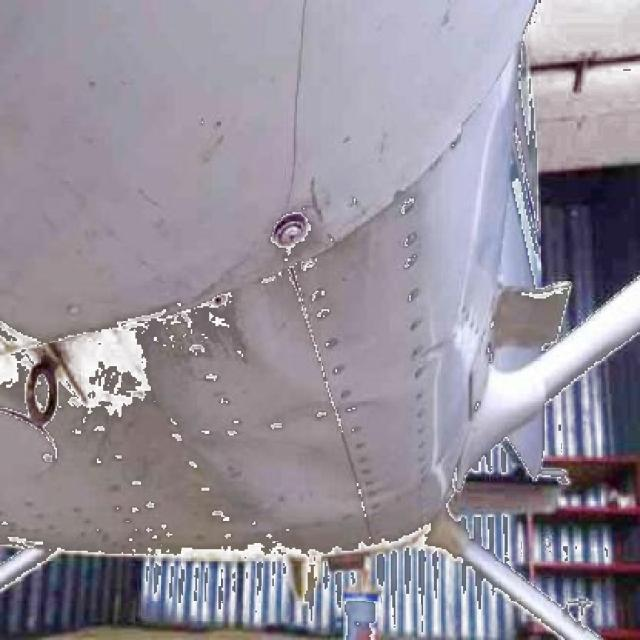dent: (236, 263, 372, 402), (205, 429, 360, 518)
